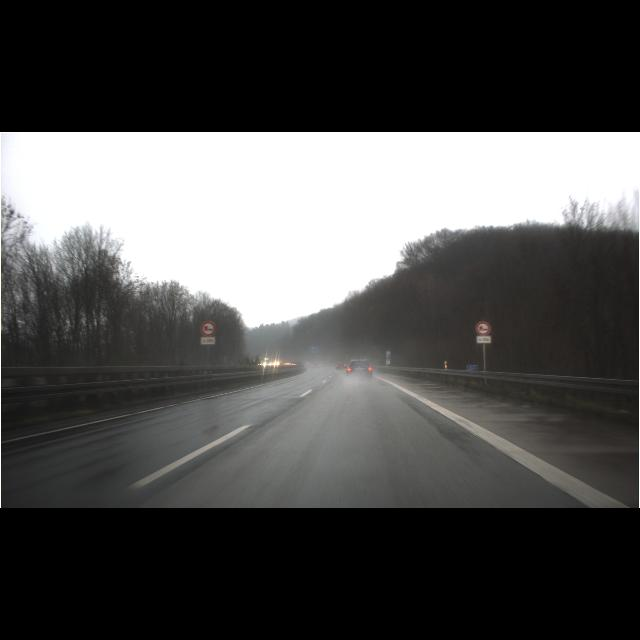prohibitory: (200, 321, 216, 337), (476, 320, 490, 336)
